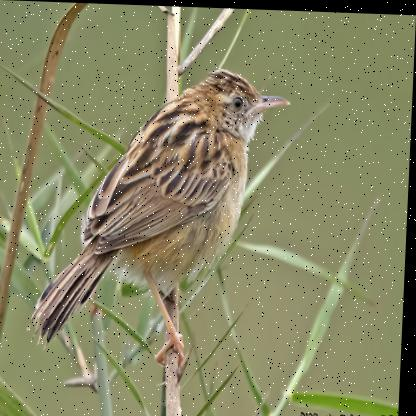Burung: (29, 61, 292, 383)
